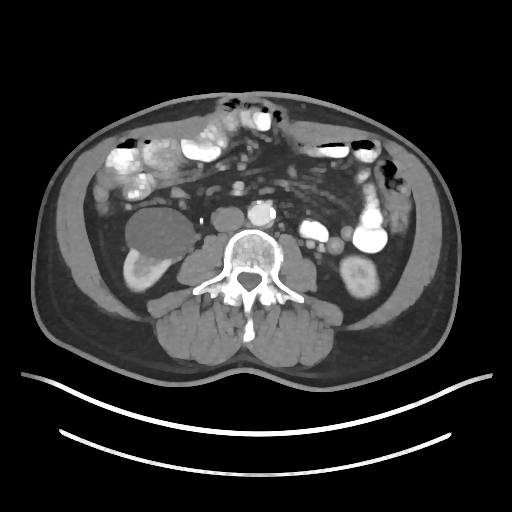Lesion: (125, 206, 195, 261)
